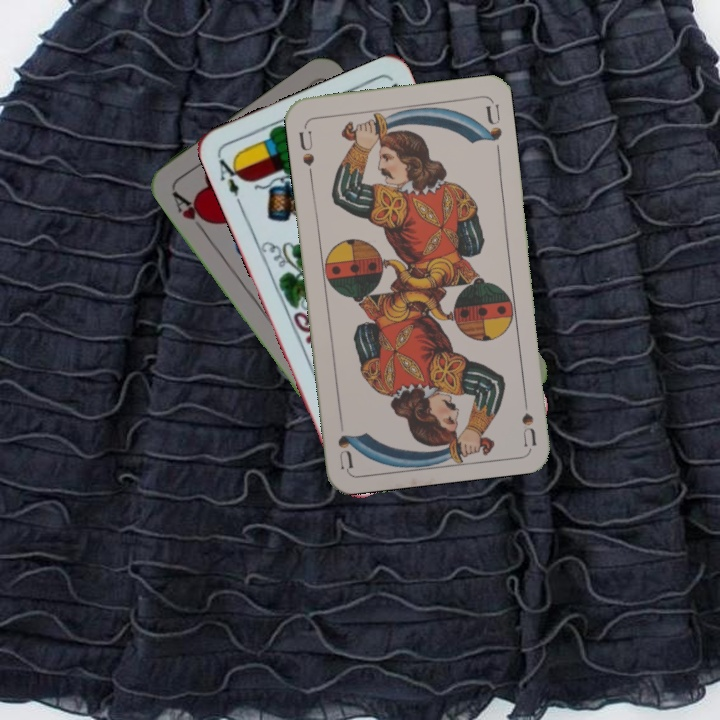EA: (214, 152, 246, 199)
HA: (168, 186, 214, 237)
SU: (294, 121, 317, 180), (518, 388, 539, 447)
